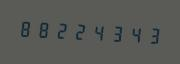eight: (17, 16, 34, 41), (35, 17, 52, 42)
four: (89, 19, 106, 44), (125, 21, 142, 46)
three: (107, 20, 124, 45), (143, 22, 160, 47)
two: (53, 18, 70, 42), (71, 19, 88, 43)
